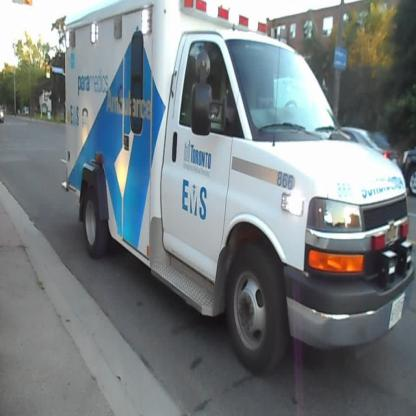Ambulance: (60, 0, 415, 378)
